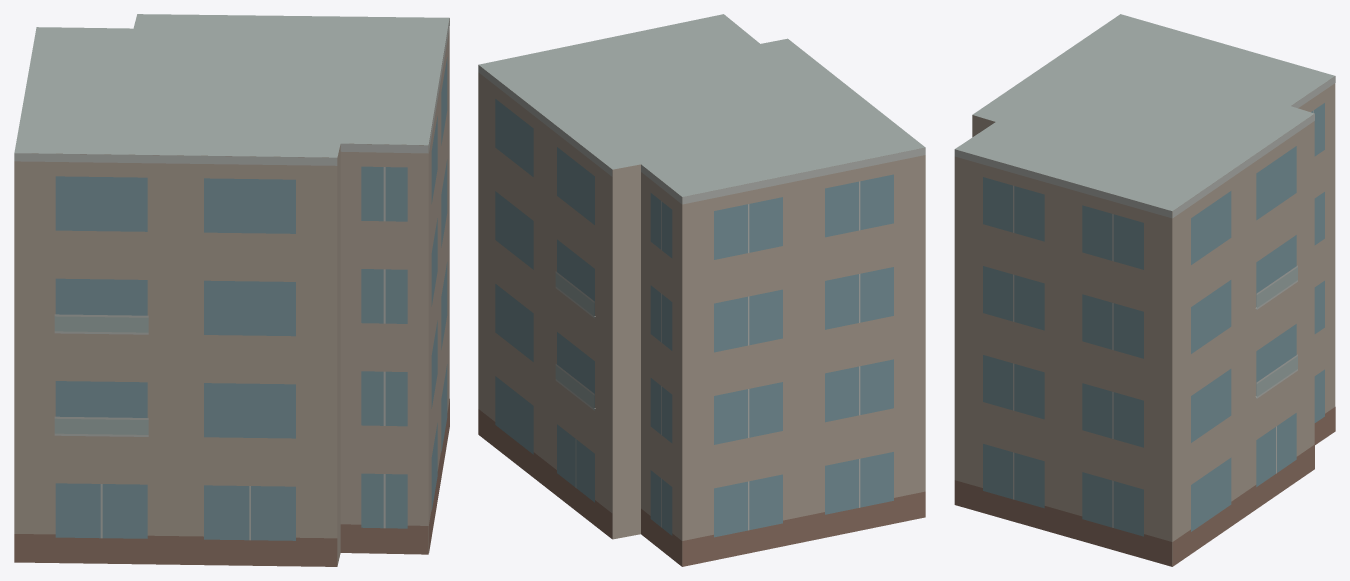
The model's file is survey-upis-32889927.glb.
3 renders of one model, left to right at view 1: azimuth 30°, elevation 25°; view 2: azimuth 150°, elevation 25°; view 3: azimuth 270°, elevation 25°, orthographic. The views are drawn at different scales.
Parts seen in each view (by area): view 1: survey-upis-32889927.tmp; view 2: survey-upis-32889927.tmp; view 3: survey-upis-32889927.tmp.
Part boxes in pixels (x1=…): survey-upis-32889927.tmp: x1=14, y1=14, x2=449, y2=566; survey-upis-32889927.tmp: x1=478, y1=14, x2=925, y2=566; survey-upis-32889927.tmp: x1=954, y1=14, x2=1335, y2=566.
Size of the model in its own units: 14.34 by 12.05 by 11.7.
